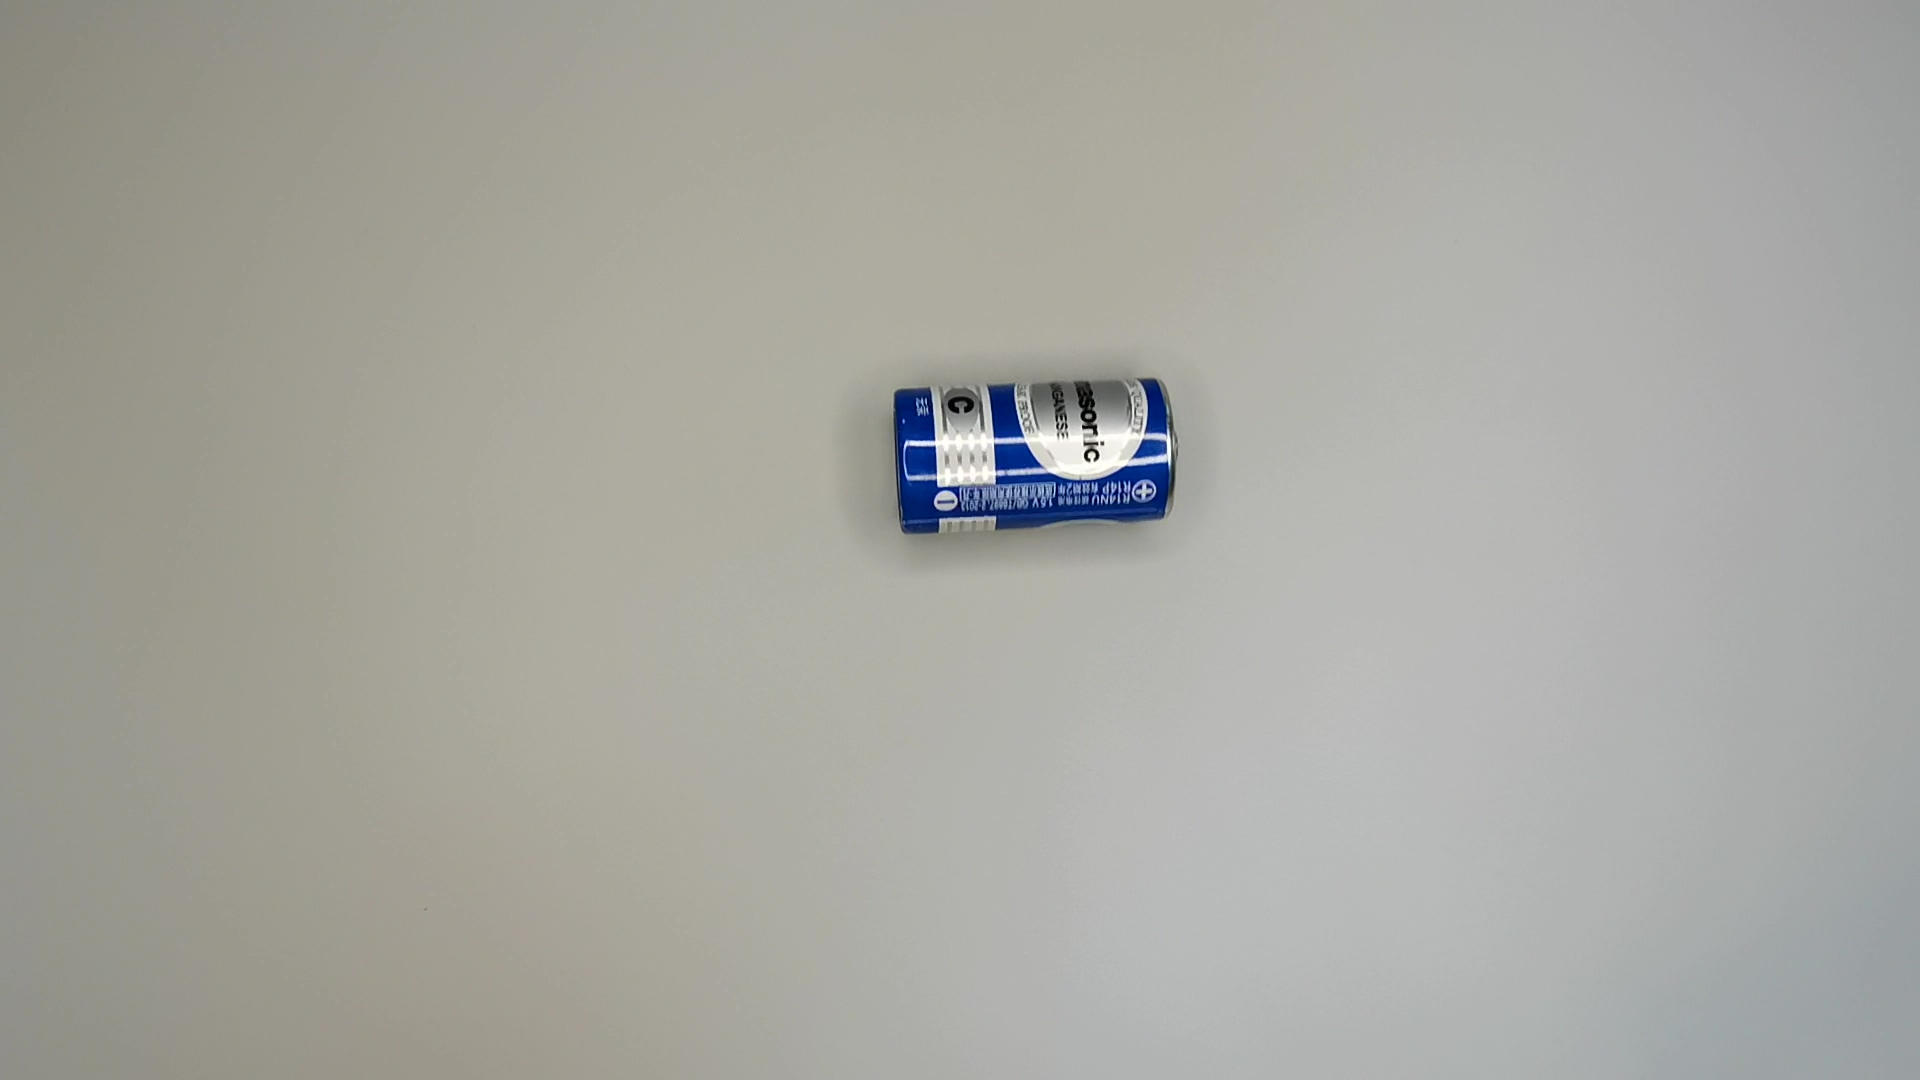battery: (882, 378, 1185, 543)
